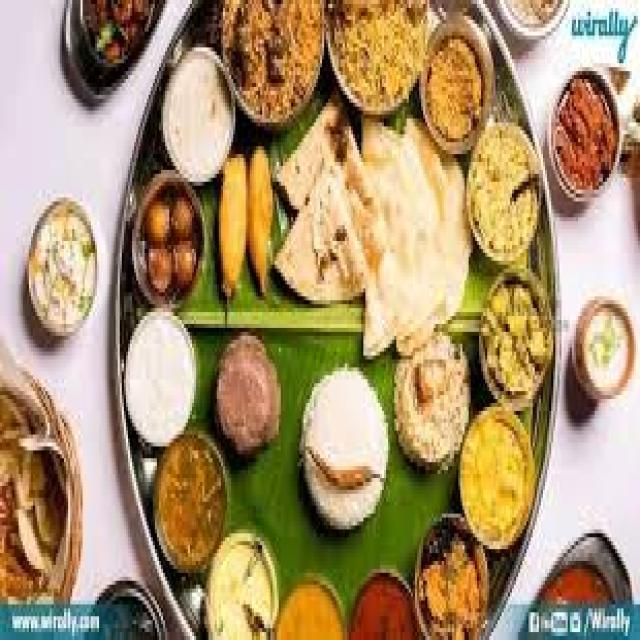curd: (120, 310, 205, 450)
dal: (460, 415, 541, 538)
papad: (352, 127, 471, 357), (273, 118, 359, 299)
pickle: (547, 80, 619, 198)
raita: (120, 304, 201, 449)
rice: (294, 366, 396, 521), (324, 0, 429, 106)
roti: (1, 387, 60, 605)
sambar-rasam: (272, 572, 348, 640), (345, 569, 416, 640)
sweet: (160, 38, 233, 178), (139, 182, 203, 292)
